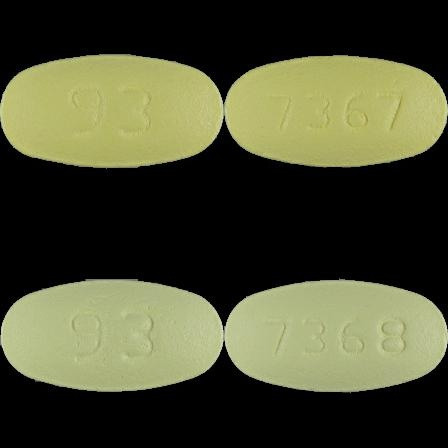0093-7367: (0, 0, 224, 224)
